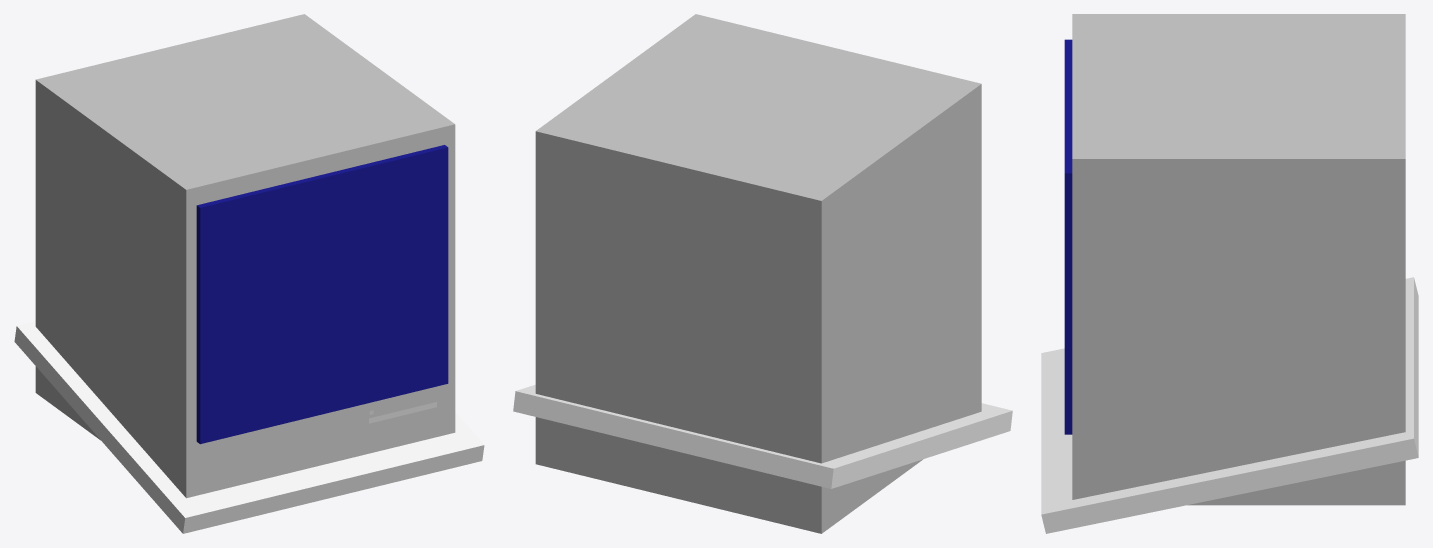
File: computer.gltf
3 renders of one model, left to right at view 1: azimuth 30°, elevation 25°; view 2: azimuth 150°, elevation 25°; view 3: azimuth 270°, elevation 25°, orthographic. The views are drawn at different scales.
Visible parts, largest first — view 1: Box (×3); view 2: Box (×2); view 3: Box (×3).
Part boxes in pixels (x1,y1,x2,y2): Box (×3): [14, 14, 484, 533]; Box (×2): [513, 14, 1012, 533]; Box (×3): [1041, 14, 1418, 533].
Bounding box in the file's own units: 1 × 1.06 × 0.9882.
